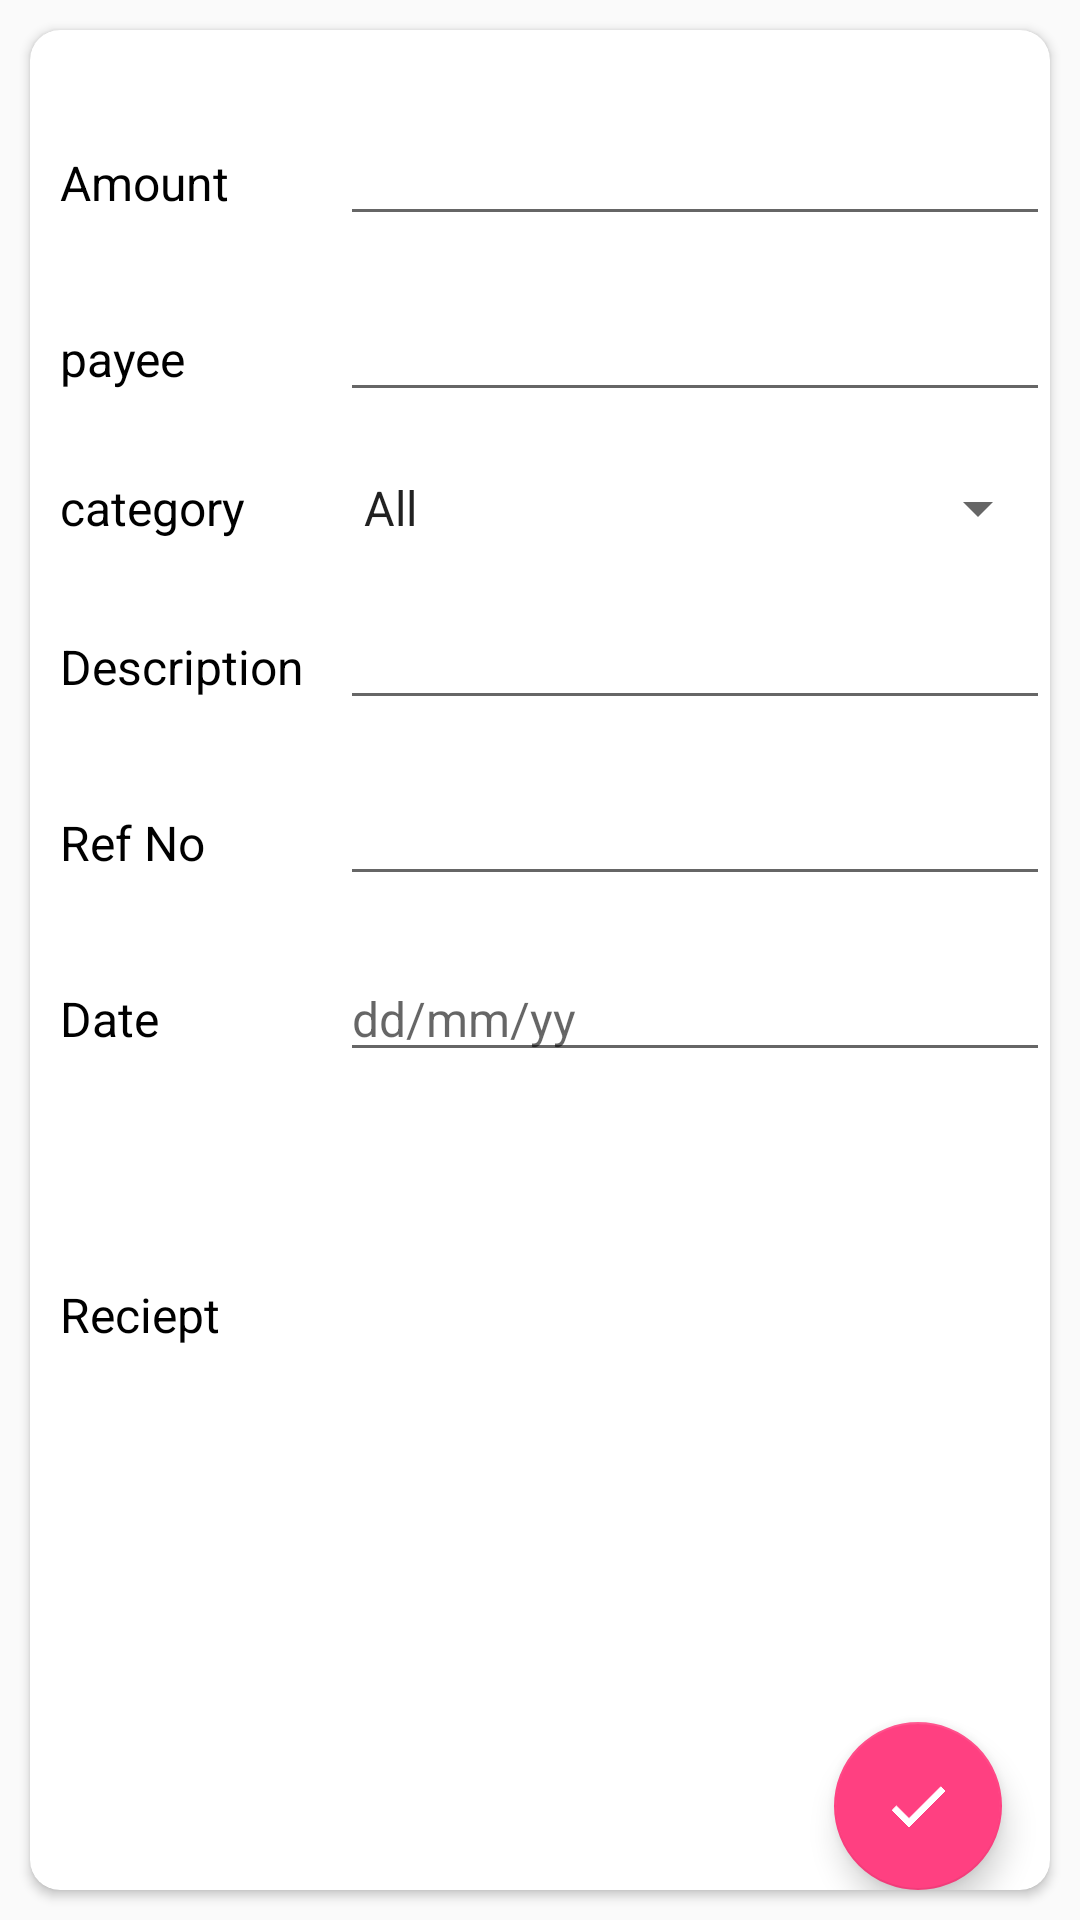

Point at icon controls on the screen. Image size 1080w x 1920h, points as [x,y].
done: [918,1806]
